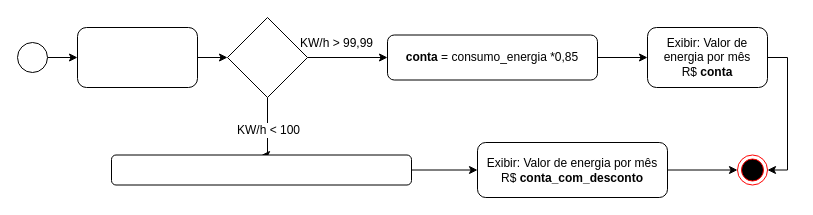
The diagram is 813 pixels wide and 215 high, and some of its shapes have lost their labels. The centre of each missing label's shape, as x and y in pixels:
"conta_com_desconto = (consumo_energia *0,9) *0,85" goes at (x=261, y=169).
"Insira o consumo de KW/h por mês ( consumo_energia )" goes at (x=137, y=57).
